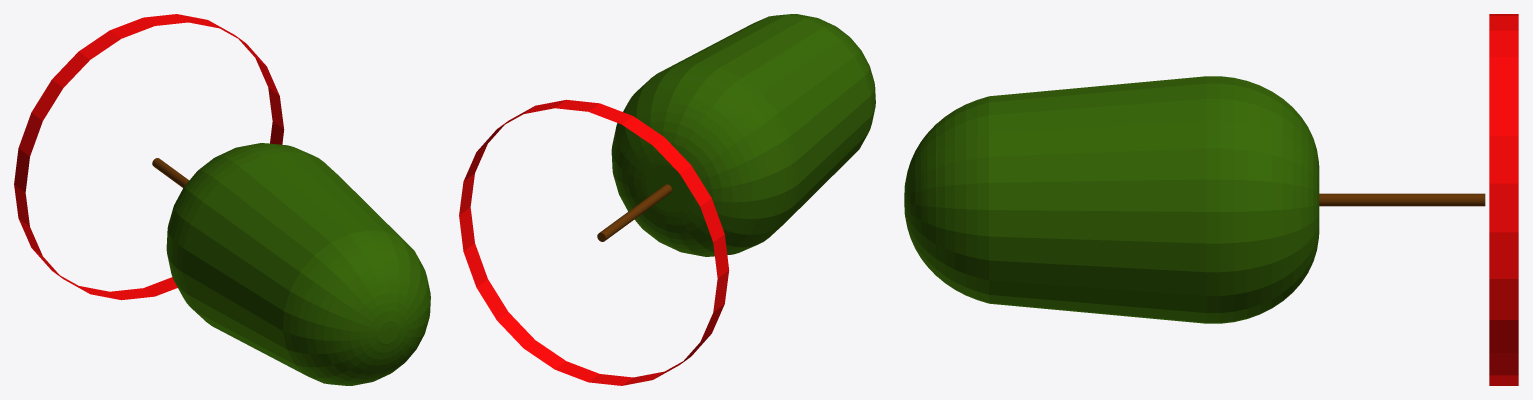
The model's file is HPSo14m.obj.
The picture shows the model from 3 angles, left to right: view 1: azimuth 30°, elevation 25°; view 2: azimuth 150°, elevation 25°; view 3: azimuth 270°, elevation 25°; orthographic projection. The views are drawn at different scales.
Bounding box in the file's own units: 9 × 9 × 14.8.
